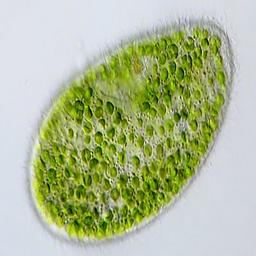Paramecium: (30, 19, 234, 243)
